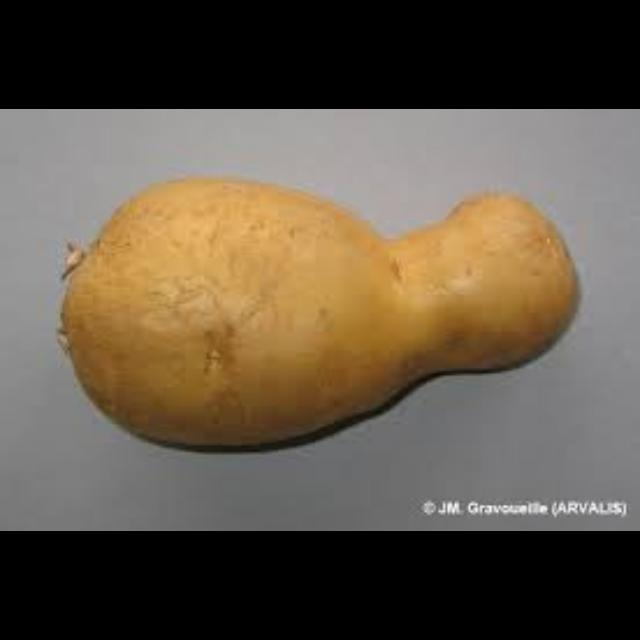Damaged potato: (66, 174, 580, 460)
